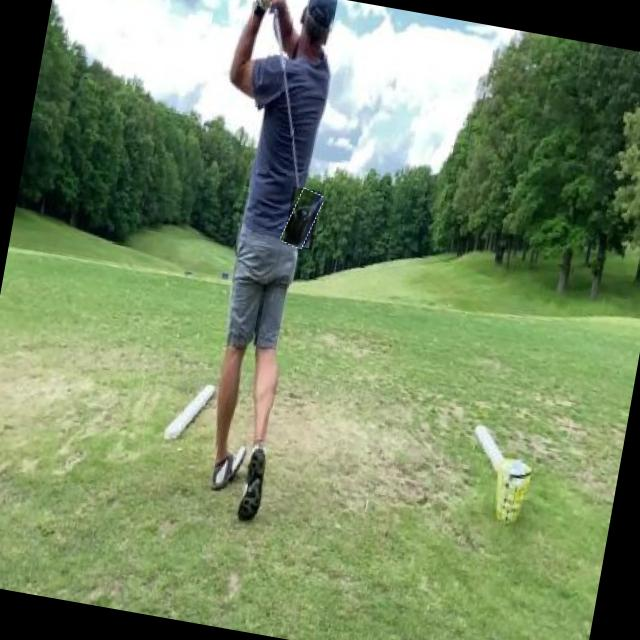club head: (282, 187, 322, 250)
